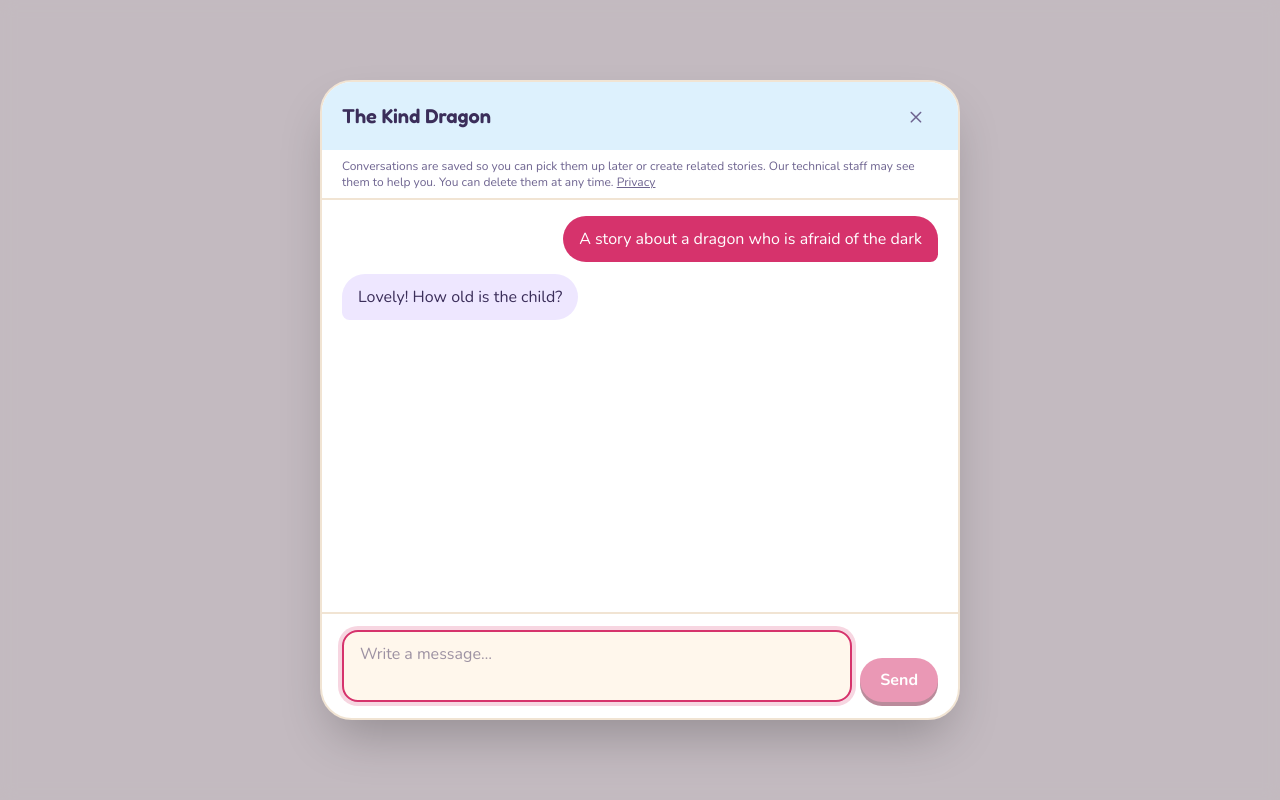
an existing conversation › continues that conversation rather than starting a new one
In the text box: [597, 666] box [342,630,852,702], type "Yes, put the scissors down"
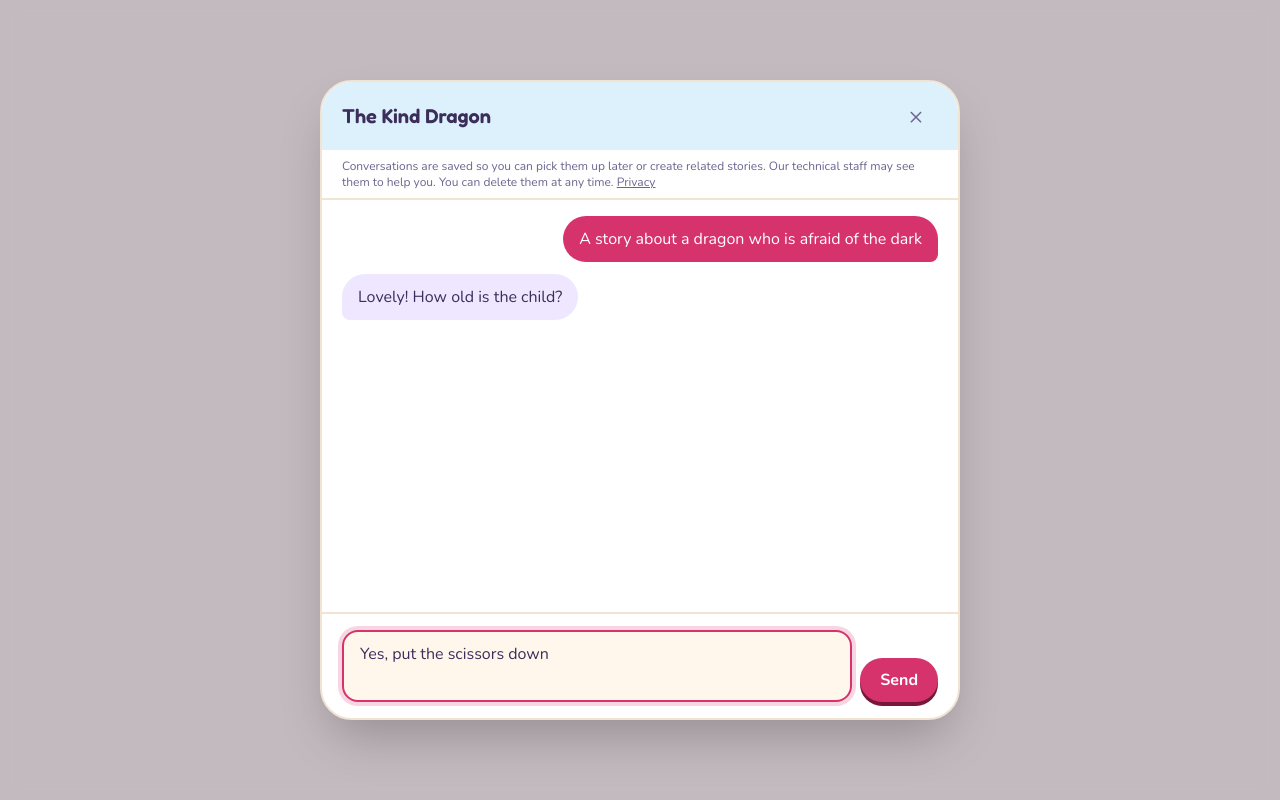
Press Enter
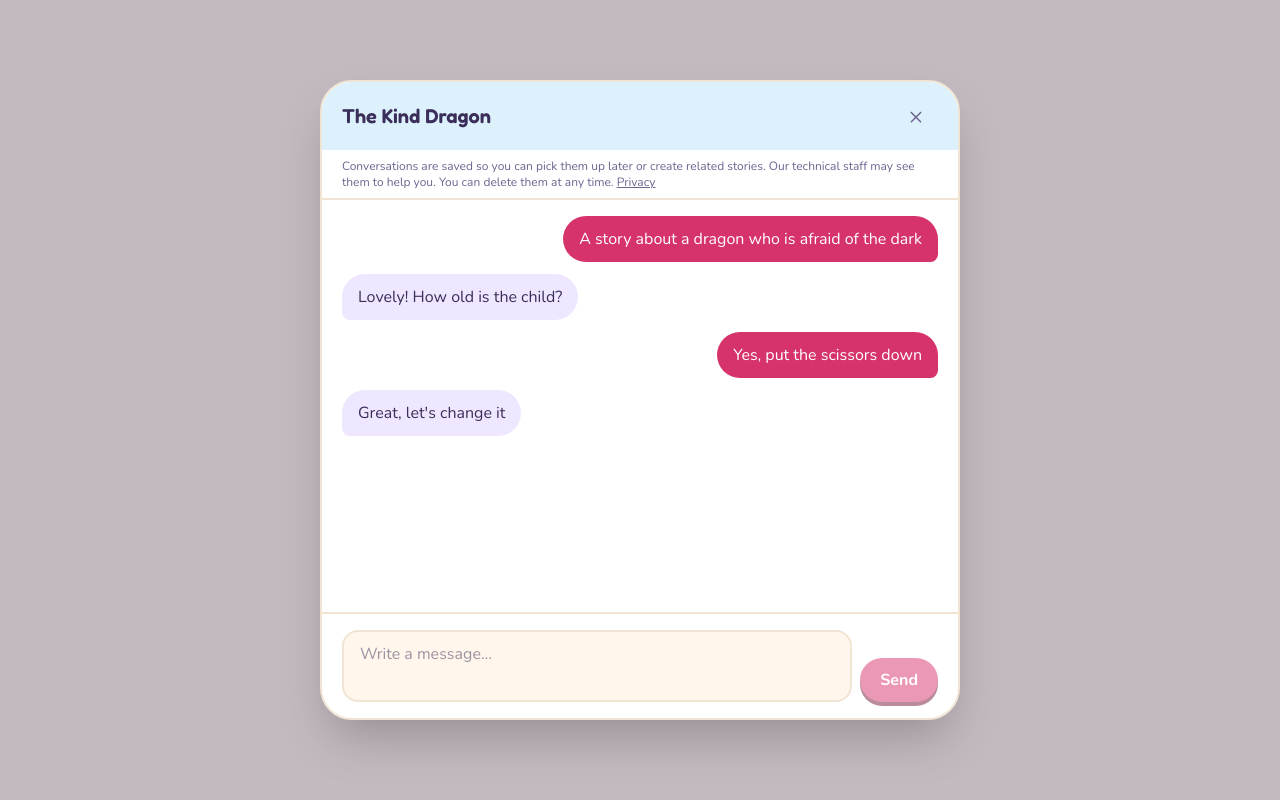
Expected: the text "Great, let's change it" is shown, [342,390,521,436]
